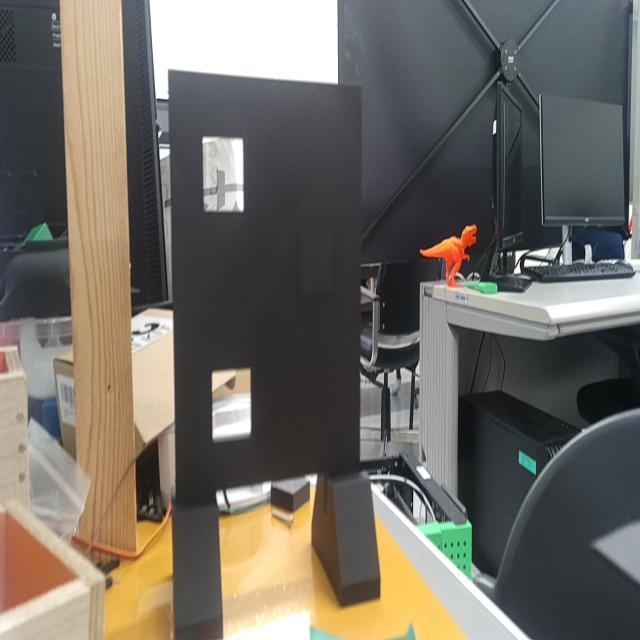Obstacle: (202, 135, 244, 212), (212, 368, 251, 440)
Wall: (169, 69, 362, 501)
